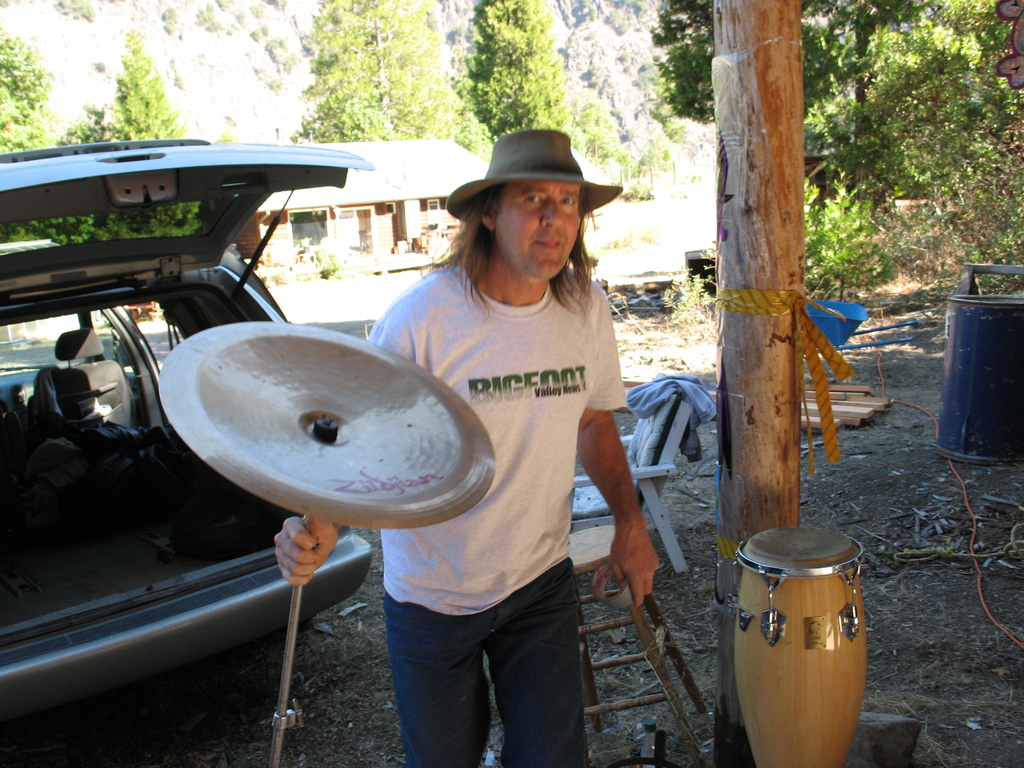Tree: (646, 0, 998, 284), (286, 0, 659, 176), (0, 35, 208, 266)
